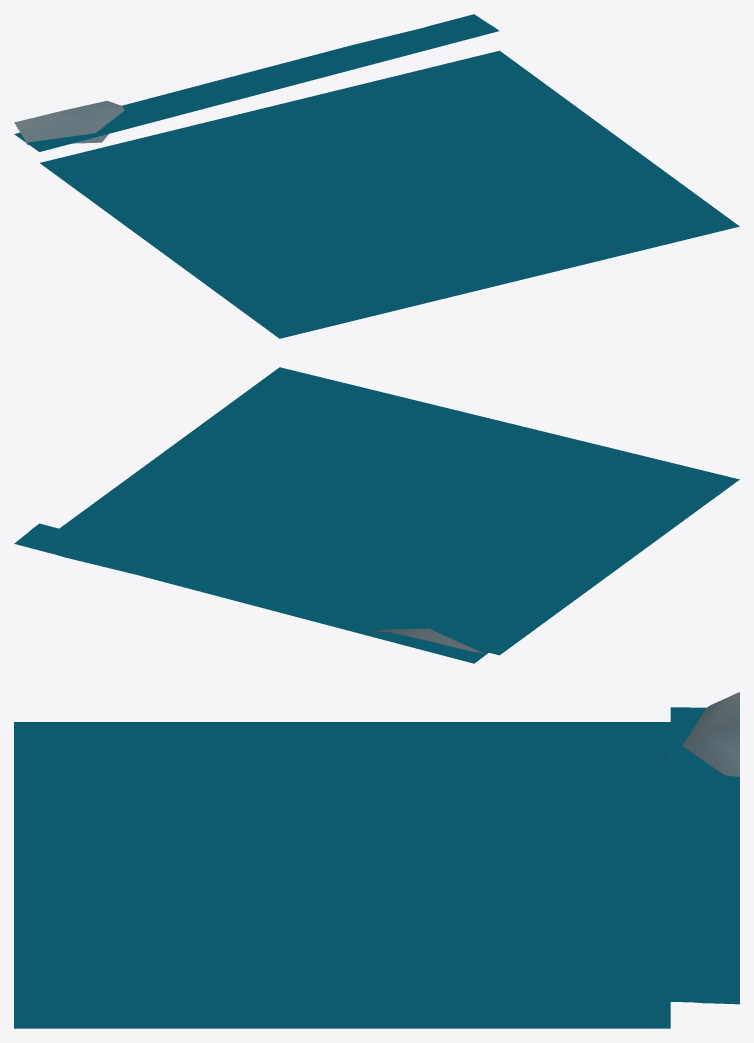
3 views of the same model, one above another, from view 1: azimuth 30°, elevation 25°; view 2: azimuth 150°, elevation 25°; view 3: azimuth 270°, elevation 25° (orthographic). The views are drawn at different scales.
Parts seen in each view (by area): view 1: G:\FFXIV-MapTools\exports\s1f3\bg\ffxiv\sea_s1\fld\s1f3\bgpl (×3); view 2: G:\FFXIV-MapTools\exports\s1f3\bg\ffxiv\sea_s1\fld\s1f3\bgpl (×3); view 3: G:\FFXIV-MapTools\exports\s1f3\bg\ffxiv\sea_s1\fld\s1f3\bgpl (×3).
Boxes of the visible parts, x1,y1,x2,y2 form: G:\FFXIV-MapTools\exports\s1f3\bg\ffxiv\sea_s1\fld\s1f3\bgpl (×3): [14, 14, 739, 338]; G:\FFXIV-MapTools\exports\s1f3\bg\ffxiv\sea_s1\fld\s1f3\bgpl (×3): [14, 367, 739, 663]; G:\FFXIV-MapTools\exports\s1f3\bg\ffxiv\sea_s1\fld\s1f3\bgpl (×3): [14, 692, 739, 1028].
Size of the model in its own units: 128 by 5.81 by 128.
